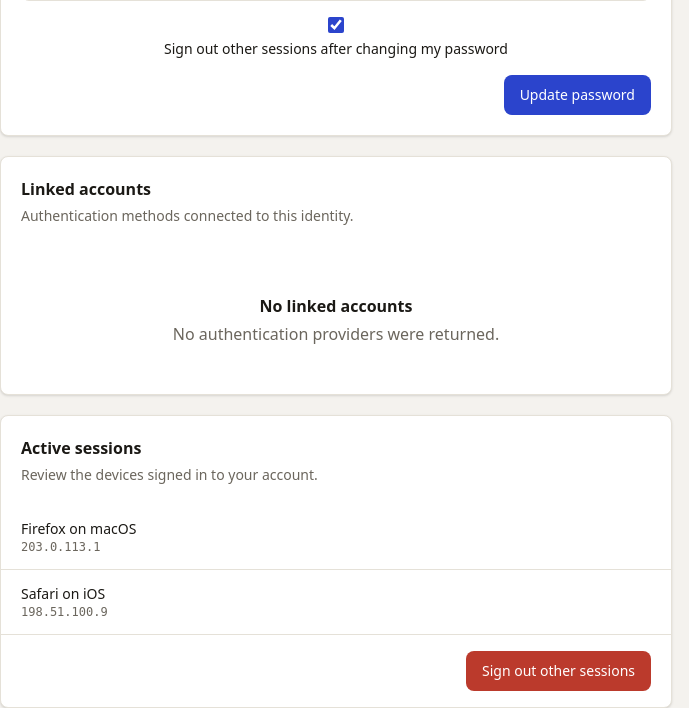
Test: SecurityScreen (AC3) › revokes other sessions and reloads the list
(page scrolled)
Check: the text "Safari on iOS" is shown, box left=21, top=584, right=108, bottom=604
Step 1. Click the button "Sign out other sessions" → [558, 671], box left=466, top=651, right=651, bottom=691
(page scrolled)
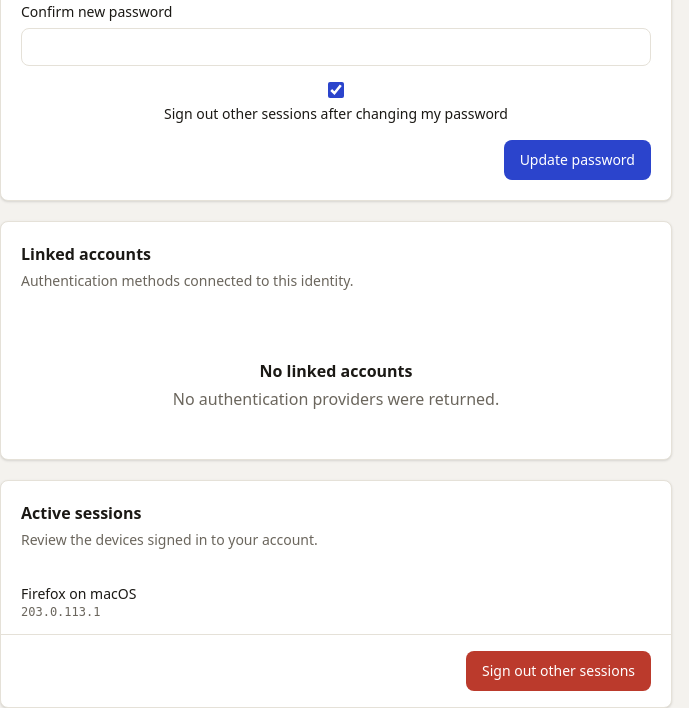
Check: the text "Firefox on macOS" is shown, box left=21, top=584, right=136, bottom=604
Check: the text "Safari on iOS" is gone
